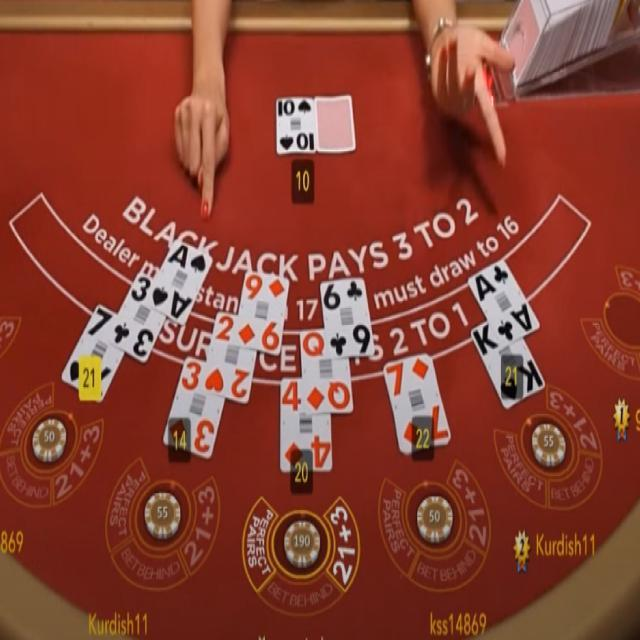Card-10: (276, 96, 315, 153)
Card-2: (203, 310, 257, 405)
Card-3: (164, 355, 225, 459), (106, 271, 166, 363)
Card-4: (281, 379, 331, 471)
Card-6: (320, 279, 374, 360)
Card-7: (384, 353, 450, 456), (62, 302, 124, 405)
Card-9: (236, 270, 290, 354)
Card-A: (467, 259, 540, 348), (145, 238, 213, 325)
Card-K: (470, 321, 545, 411)
Card-Q: (300, 329, 353, 413)
